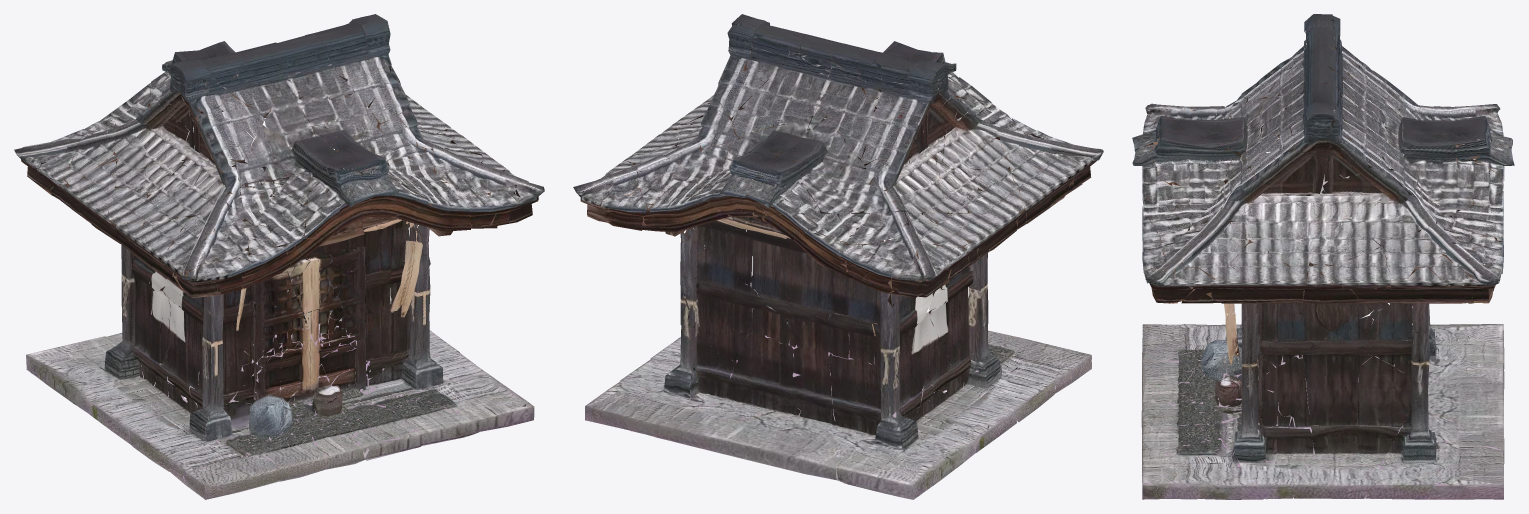
The model's file is hokora.glb.
3 views of the same model, side by side, from view 1: azimuth 30°, elevation 25°; view 2: azimuth 150°, elevation 25°; view 3: azimuth 270°, elevation 25° (orthographic).
Visible parts, largest first — view 1: Mesh_0; view 2: Mesh_0; view 3: Mesh_0.
Boxes of the visible parts, left/top/right/bottom form: Mesh_0: left=14, top=14, right=544, bottom=499; Mesh_0: left=573, top=14, right=1103, bottom=499; Mesh_0: left=1132, top=14, right=1514, bottom=499.
Bounding box in the file's own units: 1.9 × 1.78 × 1.73.
Materials: 1 (1 with a texture image).
